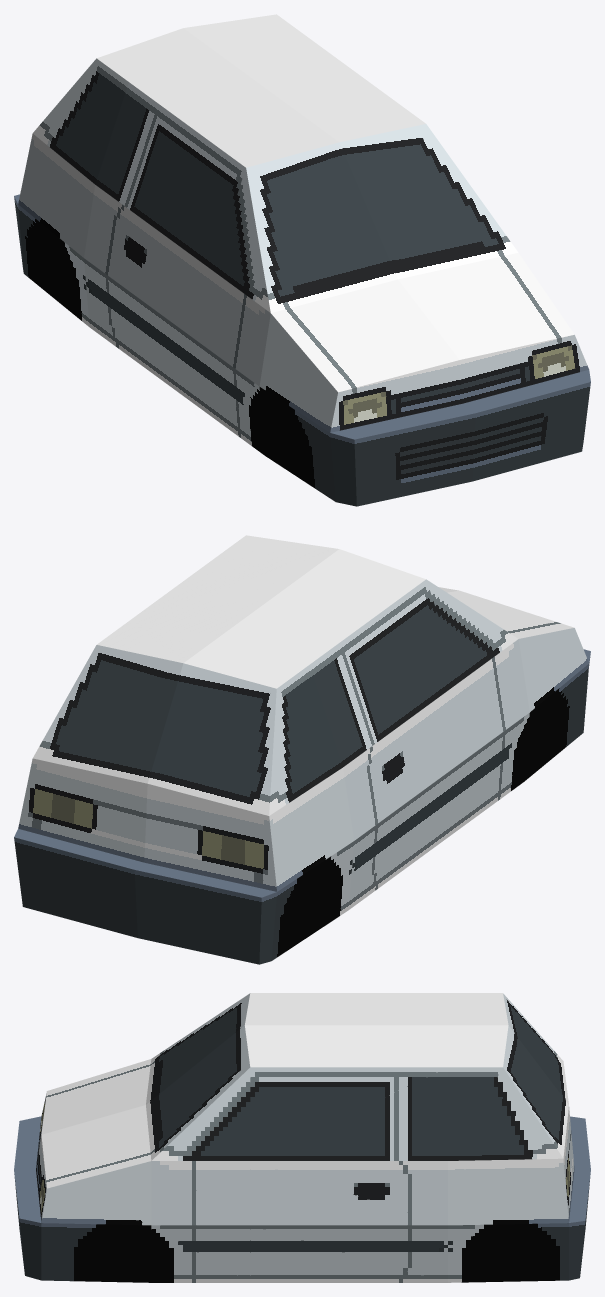
The model's file is car.glb.
3 views of the same model, one above another, from view 1: azimuth 30°, elevation 25°; view 2: azimuth 150°, elevation 25°; view 3: azimuth 270°, elevation 25° (orthographic). The views are drawn at different scales.
Visible parts, largest first — view 1: car; view 2: car; view 3: car.
Boxes of the visible parts, box(x1,y1,x2,y2) form: car: box(14, 14, 590, 506); car: box(14, 535, 590, 964); car: box(14, 993, 590, 1282).
Size of the model in its own units: 0.96 by 0.82 by 2.1.
1 material, 1 textured.
